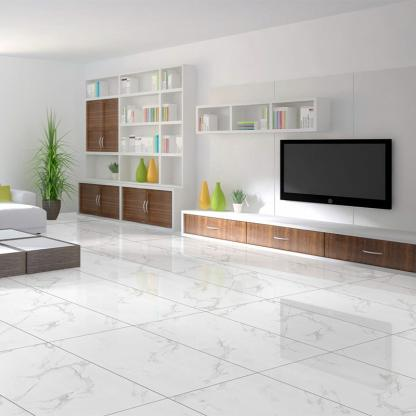Ceramic floor: (0, 210, 416, 416)
